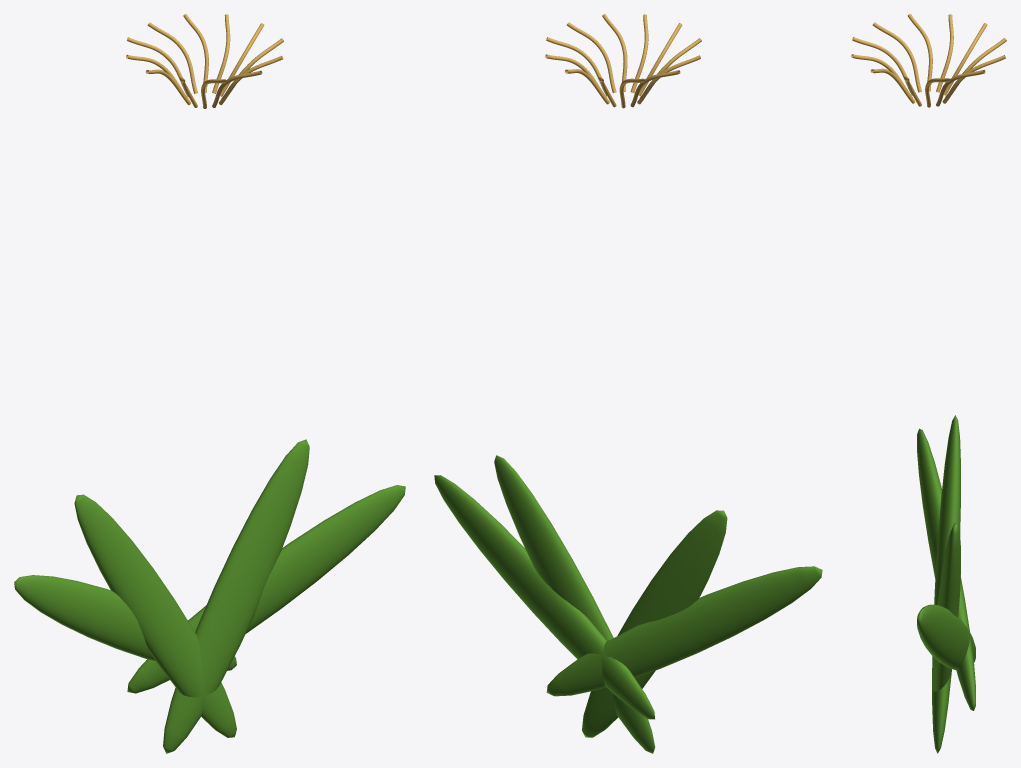
File: cob-decoration.glb
The picture shows the model from 3 angles, left to right: view 1: azimuth 30°, elevation 25°; view 2: azimuth 150°, elevation 25°; view 3: azimuth 270°, elevation 25°; orthographic projection.
Parts seen in each view (by area): view 1: Husk_03, Husk_02, Husk_04, Husk_01, Silk; view 2: Husk_01, Husk_04, Husk_02, Husk_03, Silk; view 3: Silk, Husk_02, Husk_01, Husk_04, Husk_03.
Boxes of the visible parts, left/top/right/bottom form: Husk_03: left=163, top=439, right=309, bottom=753; Husk_02: left=74, top=494, right=236, bottom=737; Husk_04: left=127, top=485, right=405, bottom=693; Husk_01: left=14, top=575, right=236, bottom=670; Silk: left=126, top=14, right=283, bottom=108; Husk_01: left=546, top=566, right=822, bottom=696; Husk_04: left=434, top=475, right=654, bottom=719; Husk_02: left=582, top=510, right=727, bottom=737; Husk_03: left=494, top=455, right=655, bottom=753; Silk: left=545, top=14, right=701, bottom=108; Silk: left=851, top=14, right=1006, bottom=107; Husk_02: left=932, top=415, right=960, bottom=753; Husk_01: left=917, top=428, right=975, bottom=710; Husk_04: left=917, top=604, right=975, bottom=670; Husk_03: left=932, top=523, right=960, bottom=691.
Bounding box in the file's own units: 4.05 × 6.94 × 1.42.
